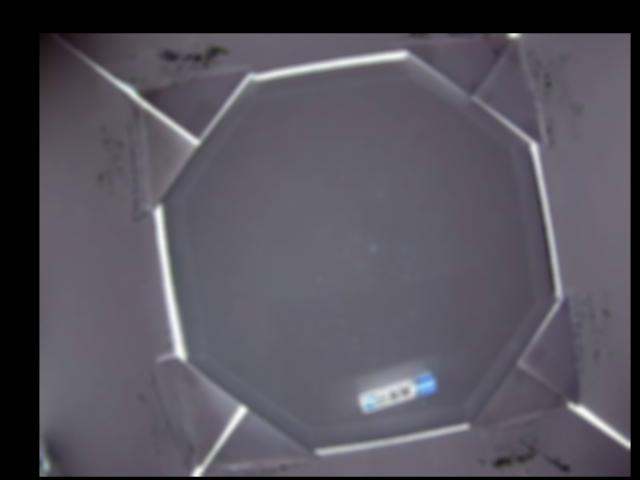Battery: (356, 371, 437, 411)
